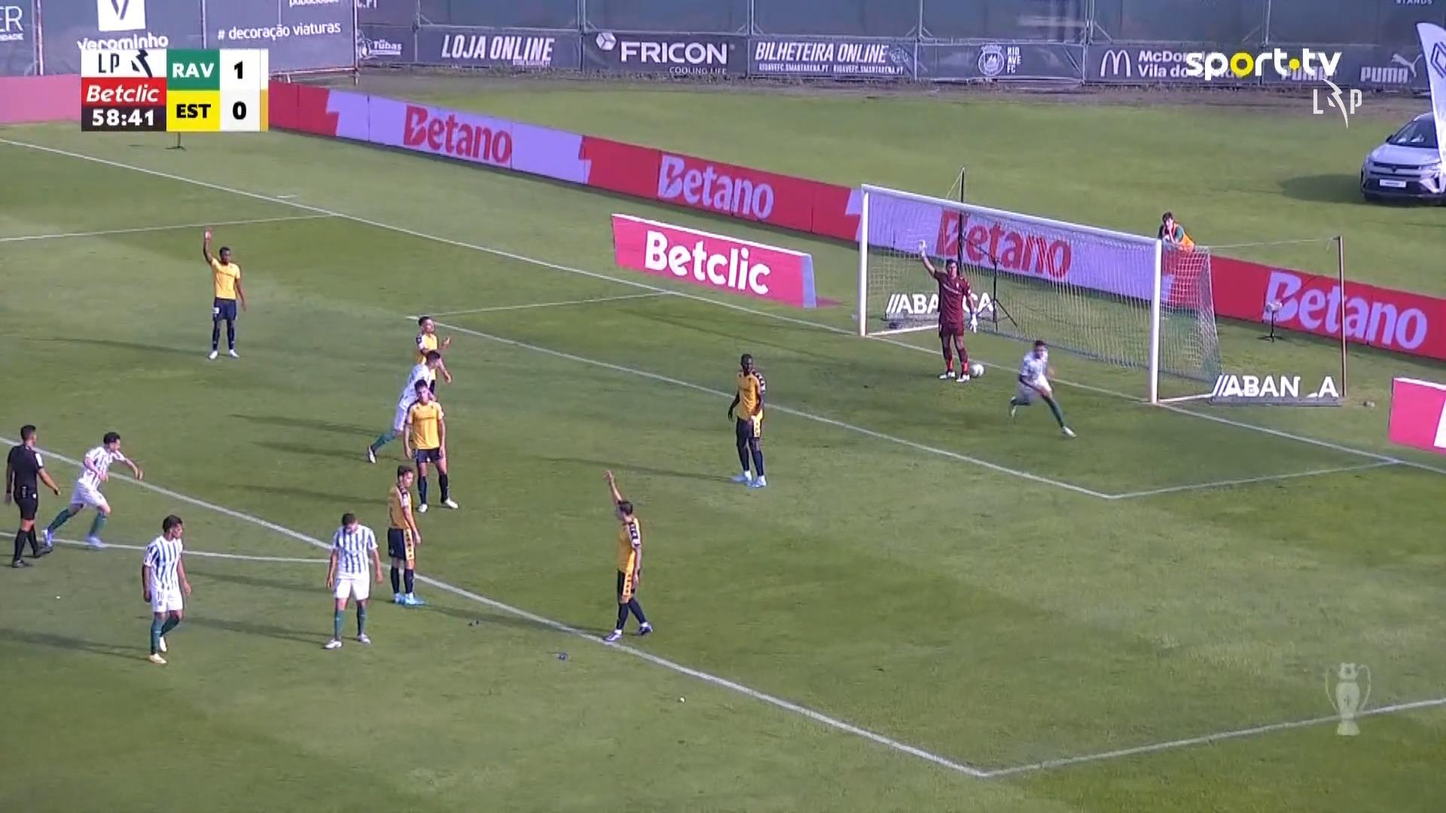ball: (969, 363, 984, 377)
goalkeeper: (917, 239, 977, 383)
player: (365, 315, 453, 464), (40, 431, 143, 551), (600, 468, 654, 643), (322, 511, 383, 649), (401, 378, 459, 513), (141, 513, 192, 664), (1008, 338, 1076, 438), (201, 229, 246, 359), (385, 464, 425, 605), (727, 353, 767, 488), (413, 315, 452, 391), (1157, 210, 1194, 251)
referee: (4, 423, 59, 568)
